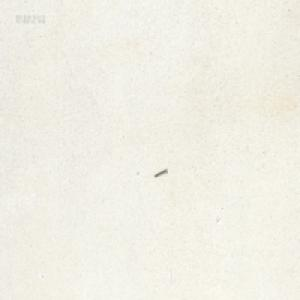Bolt: (153, 166, 167, 177)
